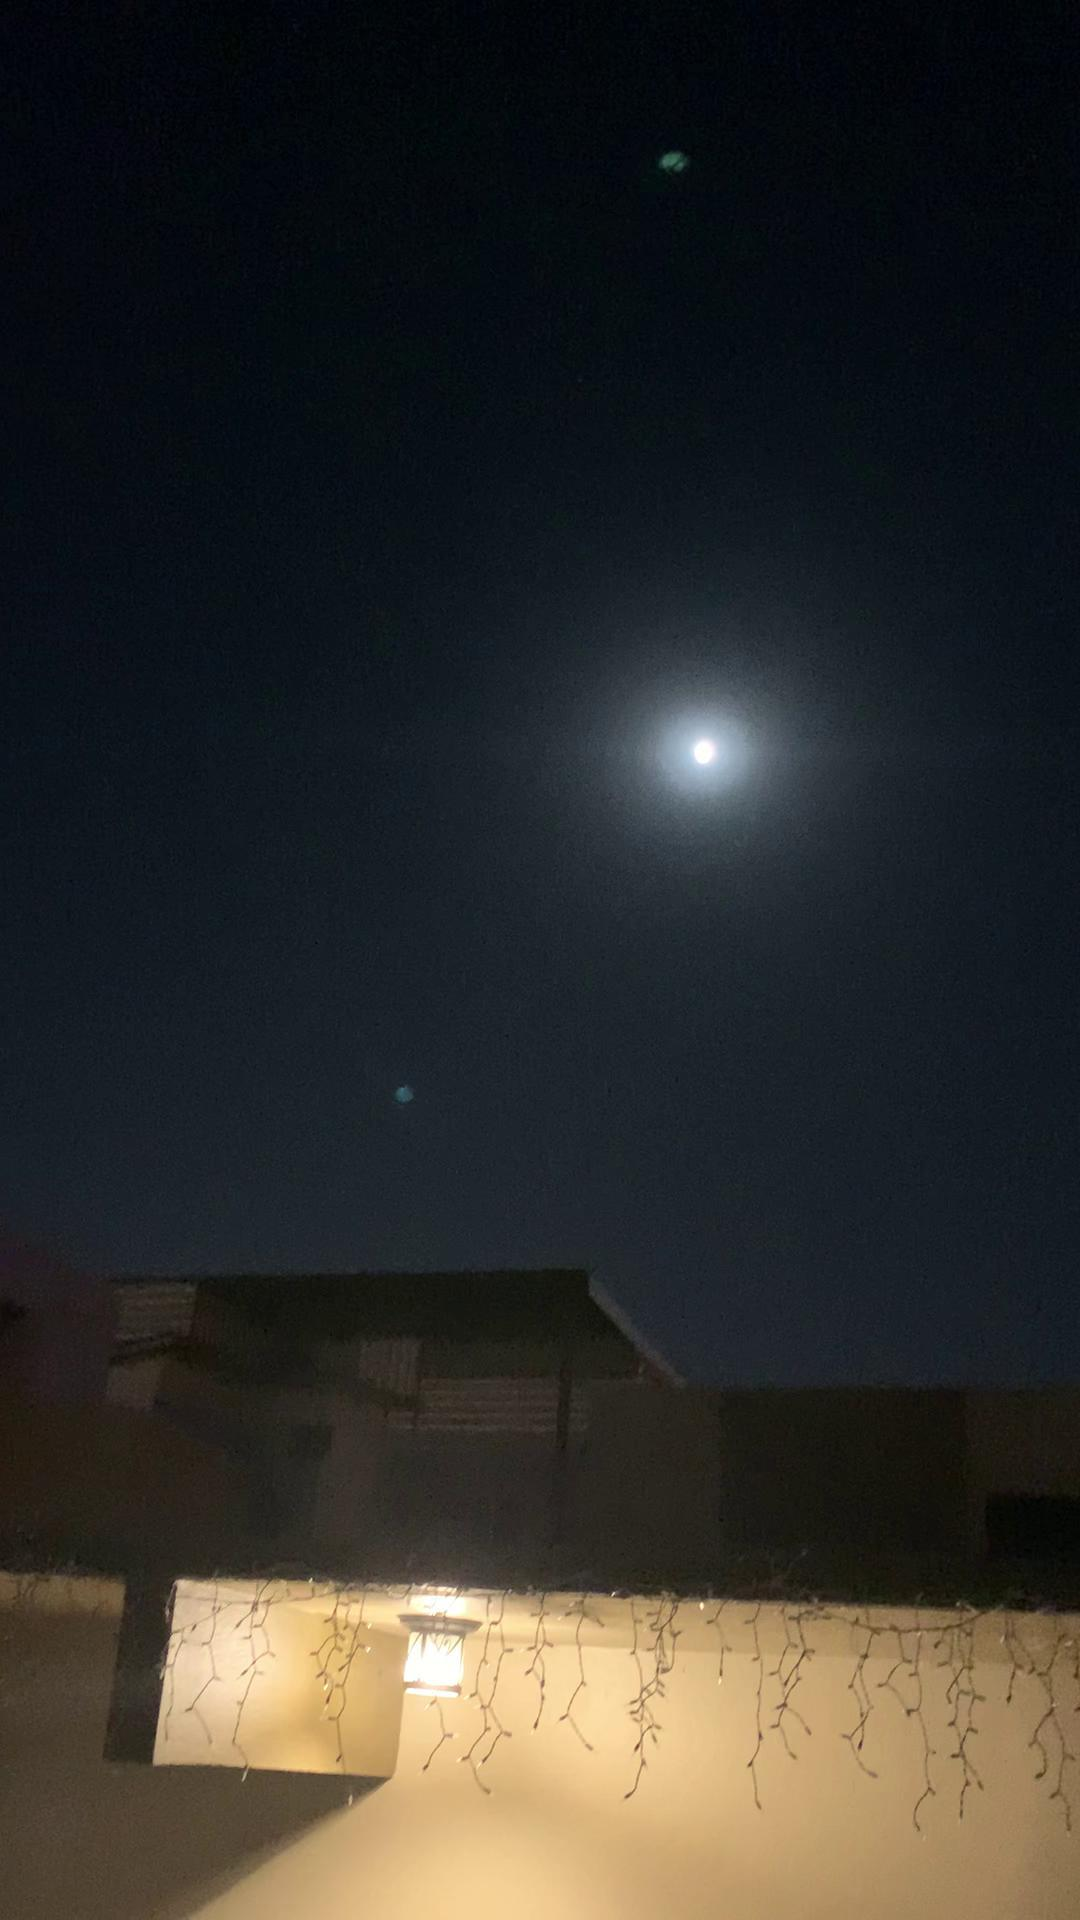moon: (657, 715, 744, 794)
